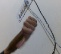hand: (16, 16, 39, 49)
